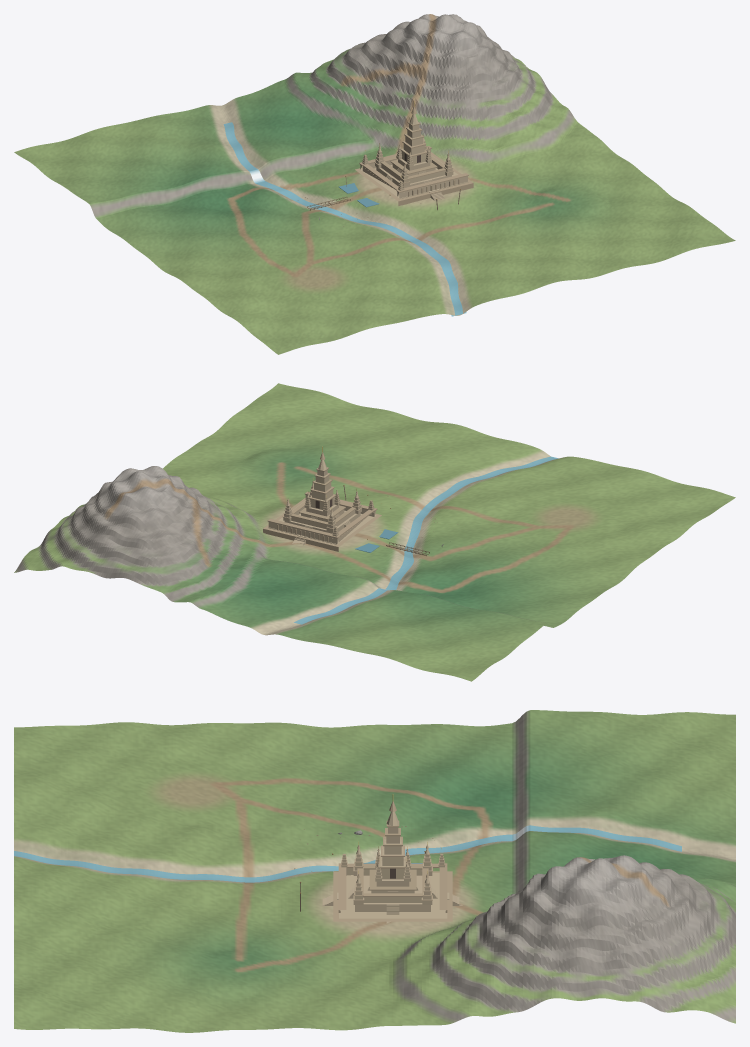
The model's file is khmer_adventure_map.glb.
The picture shows the model from 3 angles, top to bottom: view 1: azimuth 30°, elevation 25°; view 2: azimuth 150°, elevation 25°; view 3: azimuth 270°, elevation 25°; orthographic projection. The views are drawn at different scales.
Visible parts, largest first — view 1: terrain, props, water; view 2: terrain, props, water; view 3: terrain, props, water.
Boxes of the visible parts, box(x1,y1,x2,y2) form: terrain: box(14, 14, 735, 354); props: box(298, 101, 473, 226); water: box(223, 122, 466, 316); terrain: box(14, 383, 735, 681); props: box(263, 446, 457, 558); water: box(294, 456, 558, 624); terrain: box(14, 710, 735, 1032); props: box(294, 794, 462, 923); water: box(14, 825, 681, 882).
Bounding box in the file's own units: 400 × 79.72 × 400.
